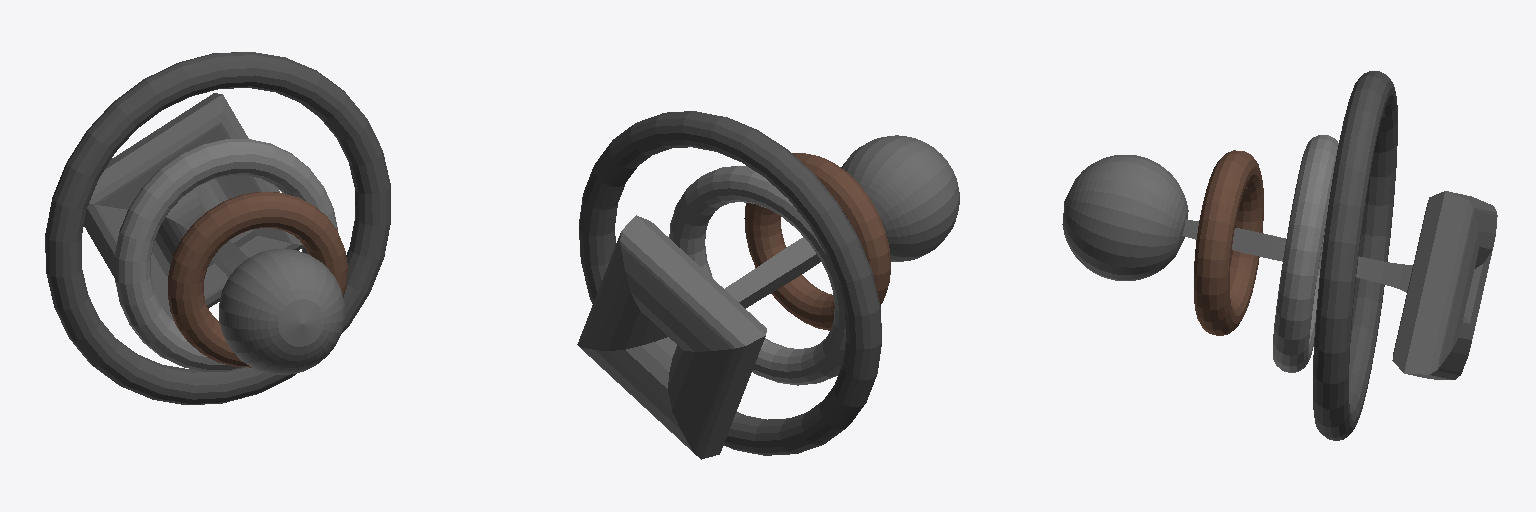
3 views of the same model, side by side, from view 1: azimuth 30°, elevation 25°; view 2: azimuth 150°, elevation 25°; view 3: azimuth 270°, elevation 25° (orthographic).
Parts seen in each view (by area): view 1: test1; view 2: test1; view 3: test1.
Boxes of the visible parts, x1=… form: test1: x1=45, y1=52, x2=390, y2=404; test1: x1=577, y1=111, x2=959, y2=459; test1: x1=1062, y1=71, x2=1497, y2=440.
Size of the model in its own units: 1.03 by 1.04 by 1.22.